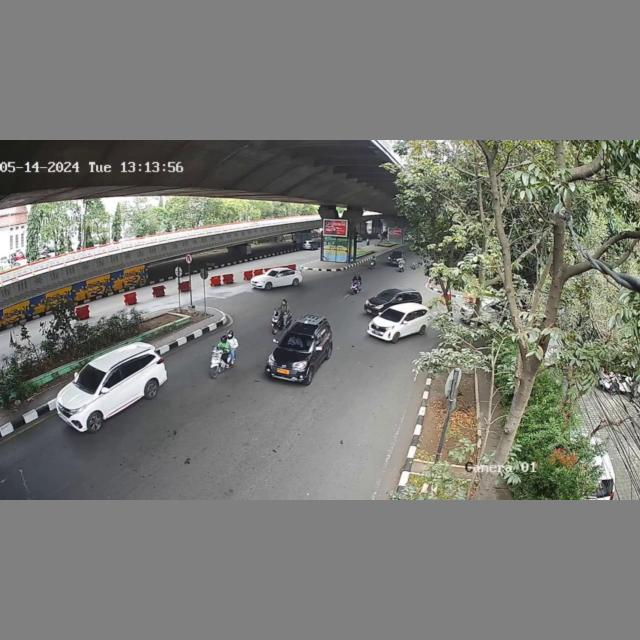windshield: (71, 366, 105, 393), (282, 331, 313, 351), (379, 307, 403, 322)
